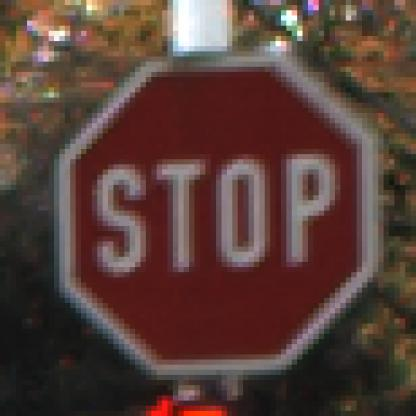stop: (51, 55, 393, 380)
